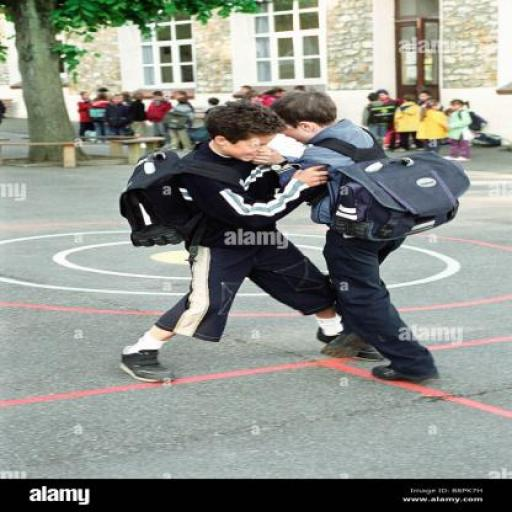Fighting: (117, 91, 460, 387)
